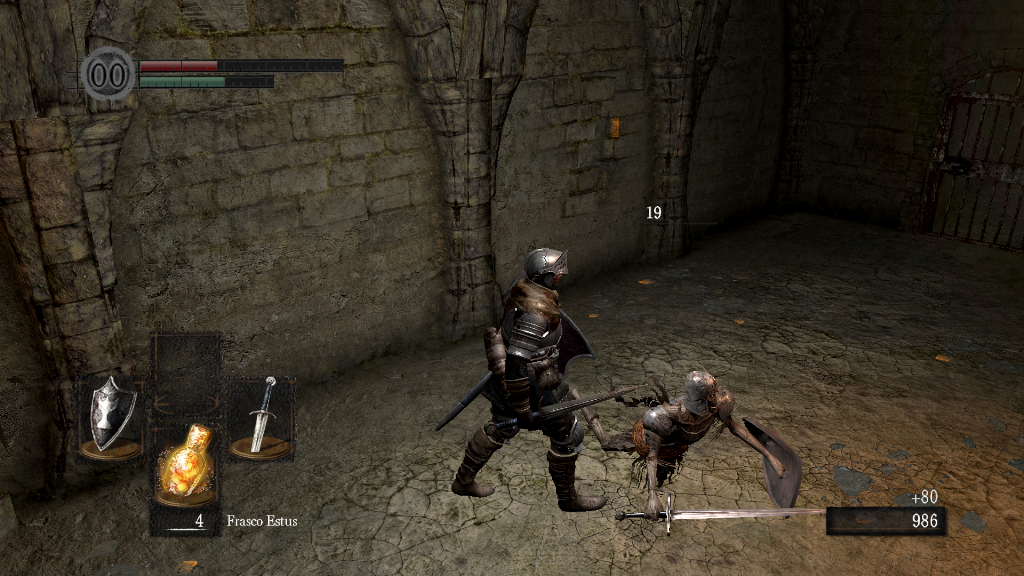health: (138, 58, 343, 71)
humanity: (80, 45, 136, 102)
player: (434, 248, 648, 514)
souls: (825, 506, 945, 536)
stamina: (138, 74, 274, 88)
undeadSoldier: (569, 373, 785, 541)
